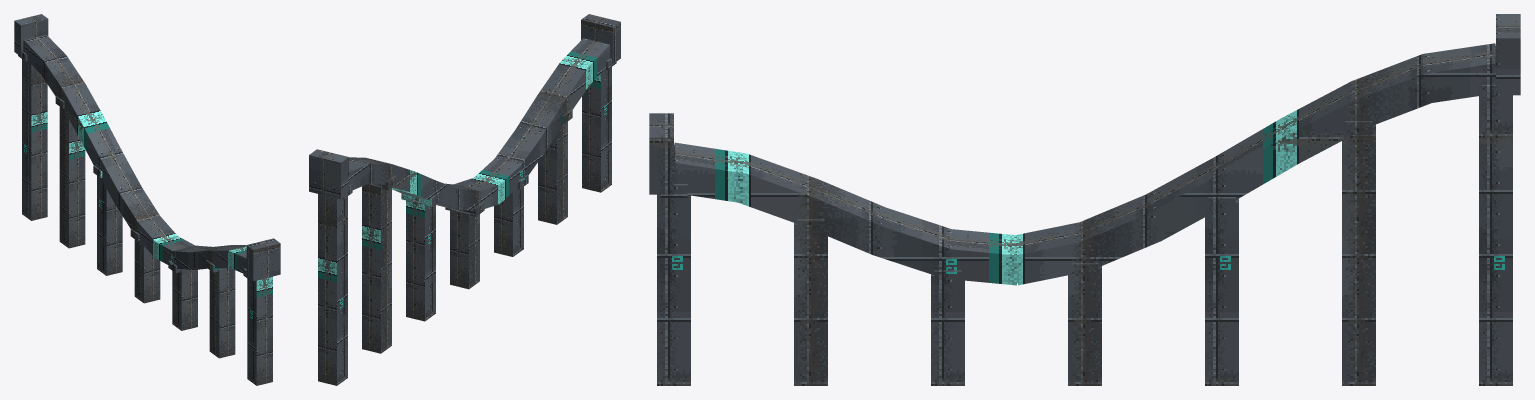
File: rail_arc_launch.glb
3 renders of one model, left to right at view 1: azimuth 30°, elevation 25°; view 2: azimuth 150°, elevation 25°; view 3: azimuth 270°, elevation 25°, orthographic. The views are drawn at different scales.
Visible parts, largest first — view 1: rail_arc_launch; view 2: rail_arc_launch; view 3: rail_arc_launch.
Part boxes in pixels (x1,y1,x2,y2): rail_arc_launch: [14, 14, 280, 385]; rail_arc_launch: [309, 14, 620, 385]; rail_arc_launch: [649, 14, 1520, 385].
Bounding box in the file's own units: 0.42 × 2.84 × 6.36.
Materials: 2 (1 with a texture image).
